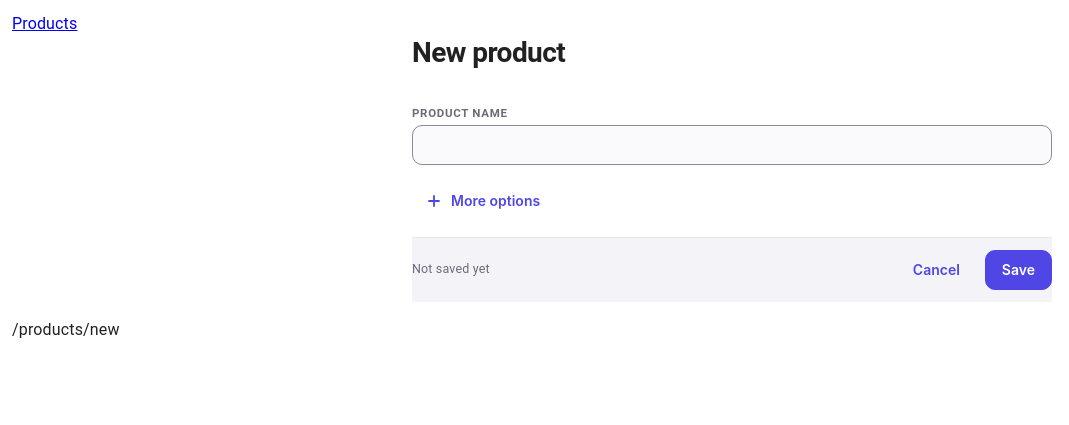
Test: More options is closed until asked for
Expected: the field labelled "Barcode" is not shown
Step 1. Click the button "More options" → x=483, y=200, box [412, 184, 553, 216]
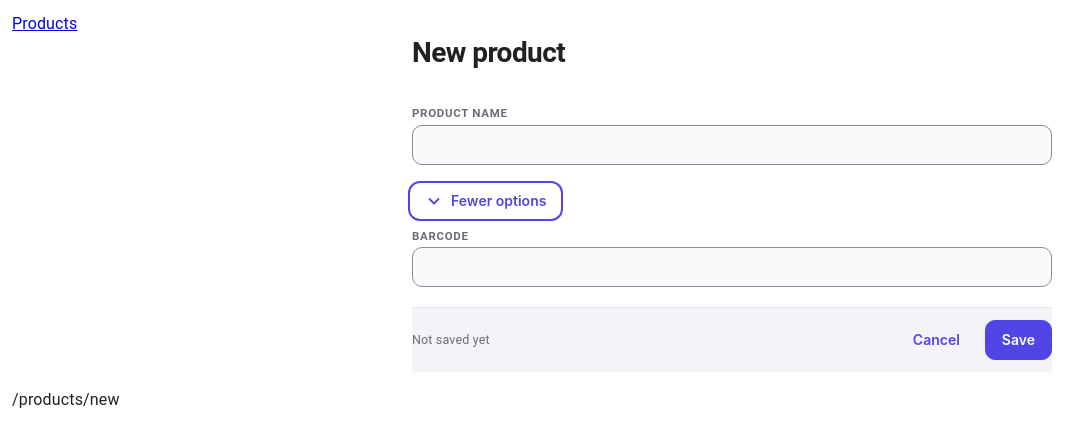
Now the field labelled "Barcode" is shown, box [413, 248, 1051, 286]
